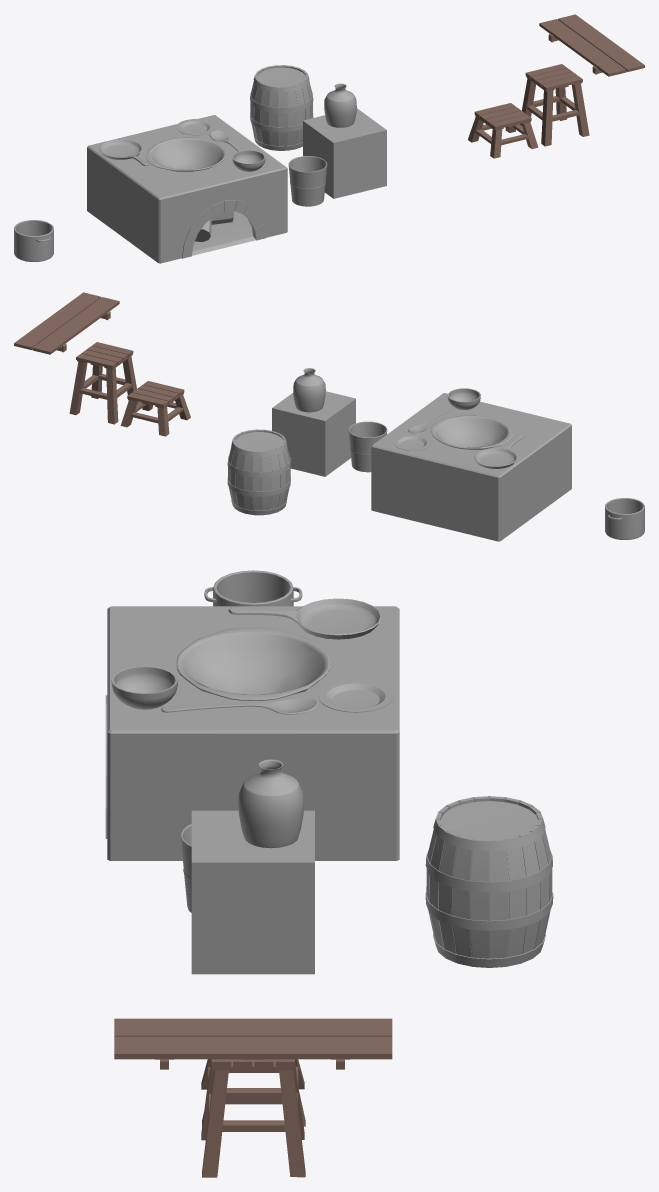
The model's file is kitchen_props.fbx.
3 renders of one model, top to bottom at view 1: azimuth 30°, elevation 25°; view 2: azimuth 150°, elevation 25°; view 3: azimuth 270°, elevation 25°, orthographic. The views are drawn at different scales.
Parts seen in each view (by area): view 1: stove, pCube10, barrel, kitchen_stoolL, kitchen_shelve, pan_large, kitchen_stoolS, bucket, pot_v2, vase_pot, pan, bowl (+1 smaller); view 2: stove, pCube10, barrel, kitchen_stoolL, kitchen_shelve, pan_large, kitchen_stoolS, pot_v2, bucket, vase_pot, pan, bowl (+1 smaller); view 3: stove, barrel, pCube10, kitchen_shelve, pan_large, kitchen_stoolL, vase_pot, pan, pot_v2, bowl, plate, scoop (+1 smaller).
Part boxes in pixels (x1,y1,x2,y2): stove: [87, 115, 287, 263]; pCube10: [303, 108, 386, 198]; barrel: [250, 65, 313, 150]; kitchen_stoolL: [519, 64, 589, 146]; kitchen_shelve: [539, 14, 644, 76]; pan_large: [146, 137, 228, 171]; kitchen_stoolS: [468, 103, 538, 158]; bucket: [288, 156, 327, 206]; pot_v2: [14, 220, 53, 261]; vase_pot: [324, 83, 356, 127]; pan: [99, 139, 149, 165]; bowl: [232, 150, 265, 171]; stove: [371, 393, 571, 541]; pCube10: [272, 391, 355, 476]; barrel: [227, 429, 290, 515]; kitchen_stoolL: [69, 342, 138, 424]; kitchen_shelve: [14, 292, 119, 354]; pan_large: [430, 415, 512, 449]; kitchen_stoolS: [120, 381, 190, 436]; pot_v2: [605, 498, 644, 539]; bucket: [348, 421, 387, 472]; vase_pot: [293, 368, 325, 412]; pan: [474, 433, 525, 468]; bowl: [447, 388, 480, 409]; stove: [105, 606, 399, 860]; barrel: [425, 796, 553, 967]; pCube10: [191, 810, 314, 974]; kitchen_shelve: [114, 1018, 392, 1069]; pan_large: [176, 627, 330, 700]; kitchen_stoolL: [201, 1059, 305, 1177]; vase_pot: [238, 759, 303, 848]; pan: [228, 598, 381, 639]; pot_v2: [204, 570, 302, 606]; bowl: [111, 666, 178, 709]; plate: [318, 680, 393, 712]; scoop: [161, 698, 318, 714].
Size of the model in its own units: 11.62 by 1.75 by 3.79.
